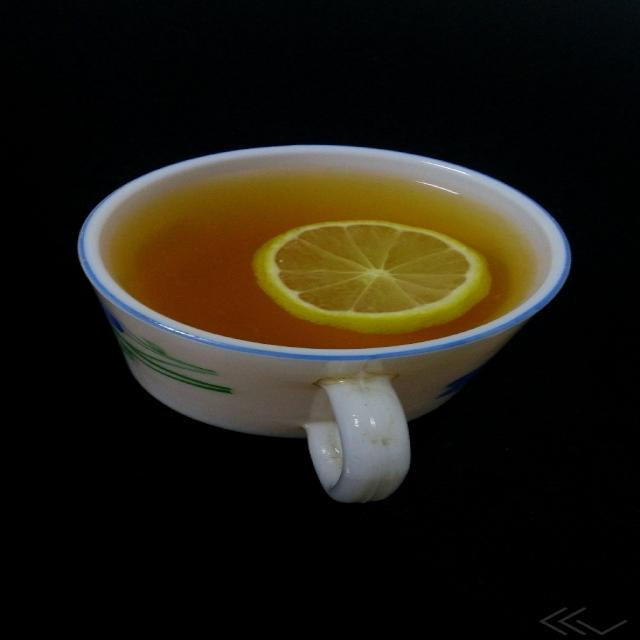Tea: (105, 161, 549, 350)
